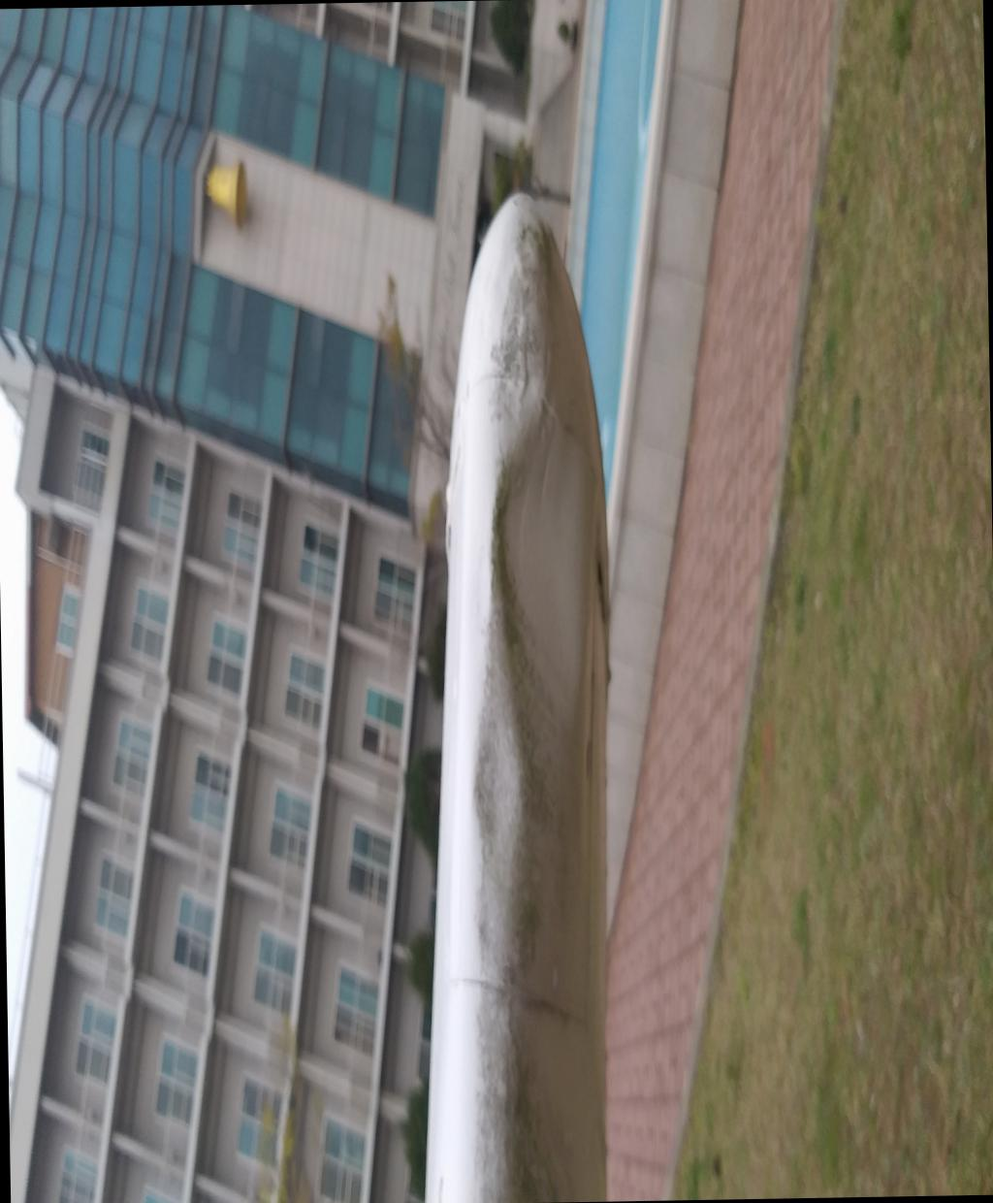dent: (49, 1137, 129, 1203)
